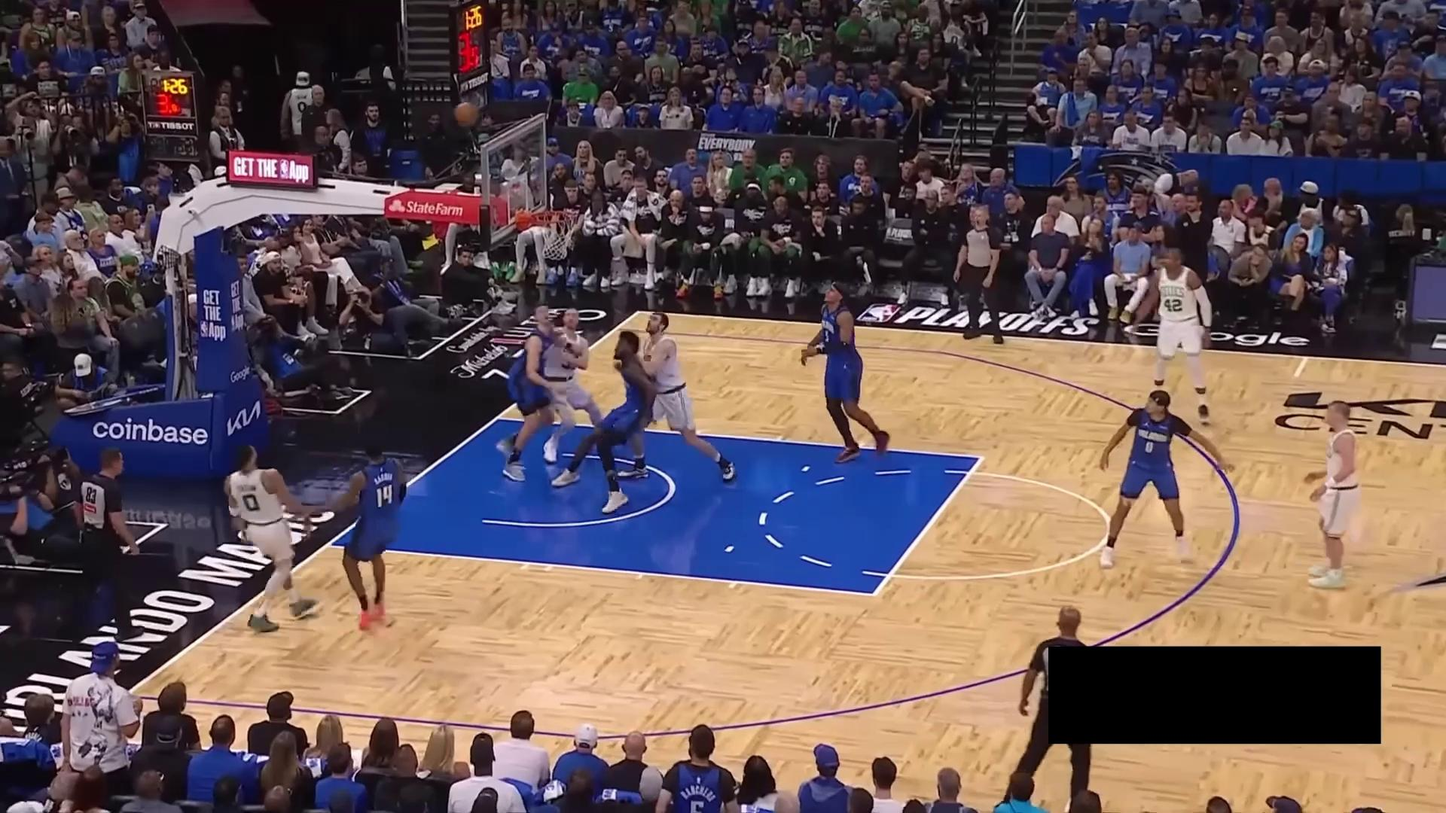ball: (454, 101, 480, 128)
number: (375, 482, 392, 514), (239, 493, 262, 516), (1163, 297, 1184, 313), (1146, 441, 1154, 454)
player: (1098, 389, 1236, 570), (618, 311, 737, 484), (551, 330, 657, 514), (222, 442, 322, 634), (801, 280, 890, 464), (326, 435, 408, 630), (1133, 247, 1214, 427), (494, 302, 555, 482), (1303, 400, 1357, 590), (543, 303, 604, 463)
referee: (1015, 608, 1101, 798), (67, 444, 144, 641), (953, 204, 1008, 344)
rim: (529, 207, 580, 226)
